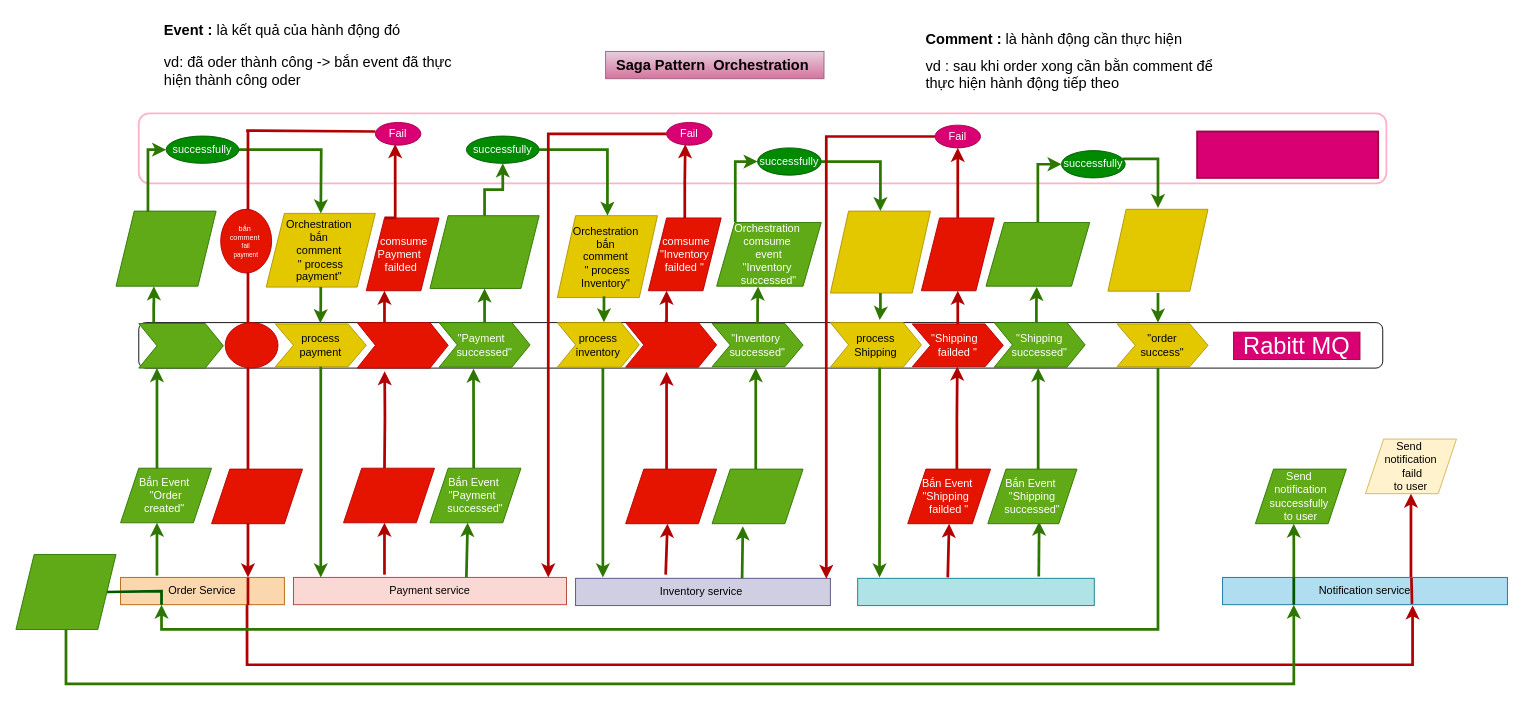
Image size: 1523x708. Some labels were removed from this diagram. Each missing label, with the box of its shape:
"Inventory failded ": (625, 322, 717, 367)
"Order created": (138, 323, 223, 368)
"Payment failded ": (356, 322, 448, 368)
Bắn Event " Inventory failded ": (625, 468, 717, 524)
Bắn Event "Inventory successed": (711, 468, 803, 524)
Bắn Event "Payment failded ": (343, 467, 435, 523)
complete và bắn 1 event "Order completed": (15, 554, 116, 630)
comsume "Shipping failded ": (920, 217, 994, 291)
consume to roback order: (211, 468, 303, 524)
fail payment: (224, 322, 278, 368)
Orchestration bắn comment "order success": (1107, 208, 1208, 291)
Orchestration bắn comment "process Shipping": (829, 210, 930, 293)
Orchestration comsume event "Order created": (115, 210, 216, 286)
Orchestration comsume event "Payment successed": (429, 215, 539, 288)
Orchestration comsume event "Shipping successed": (985, 222, 1090, 286)
service centralized coordinator: (1196, 130, 1379, 178)
Shipping service: (857, 577, 1094, 606)
